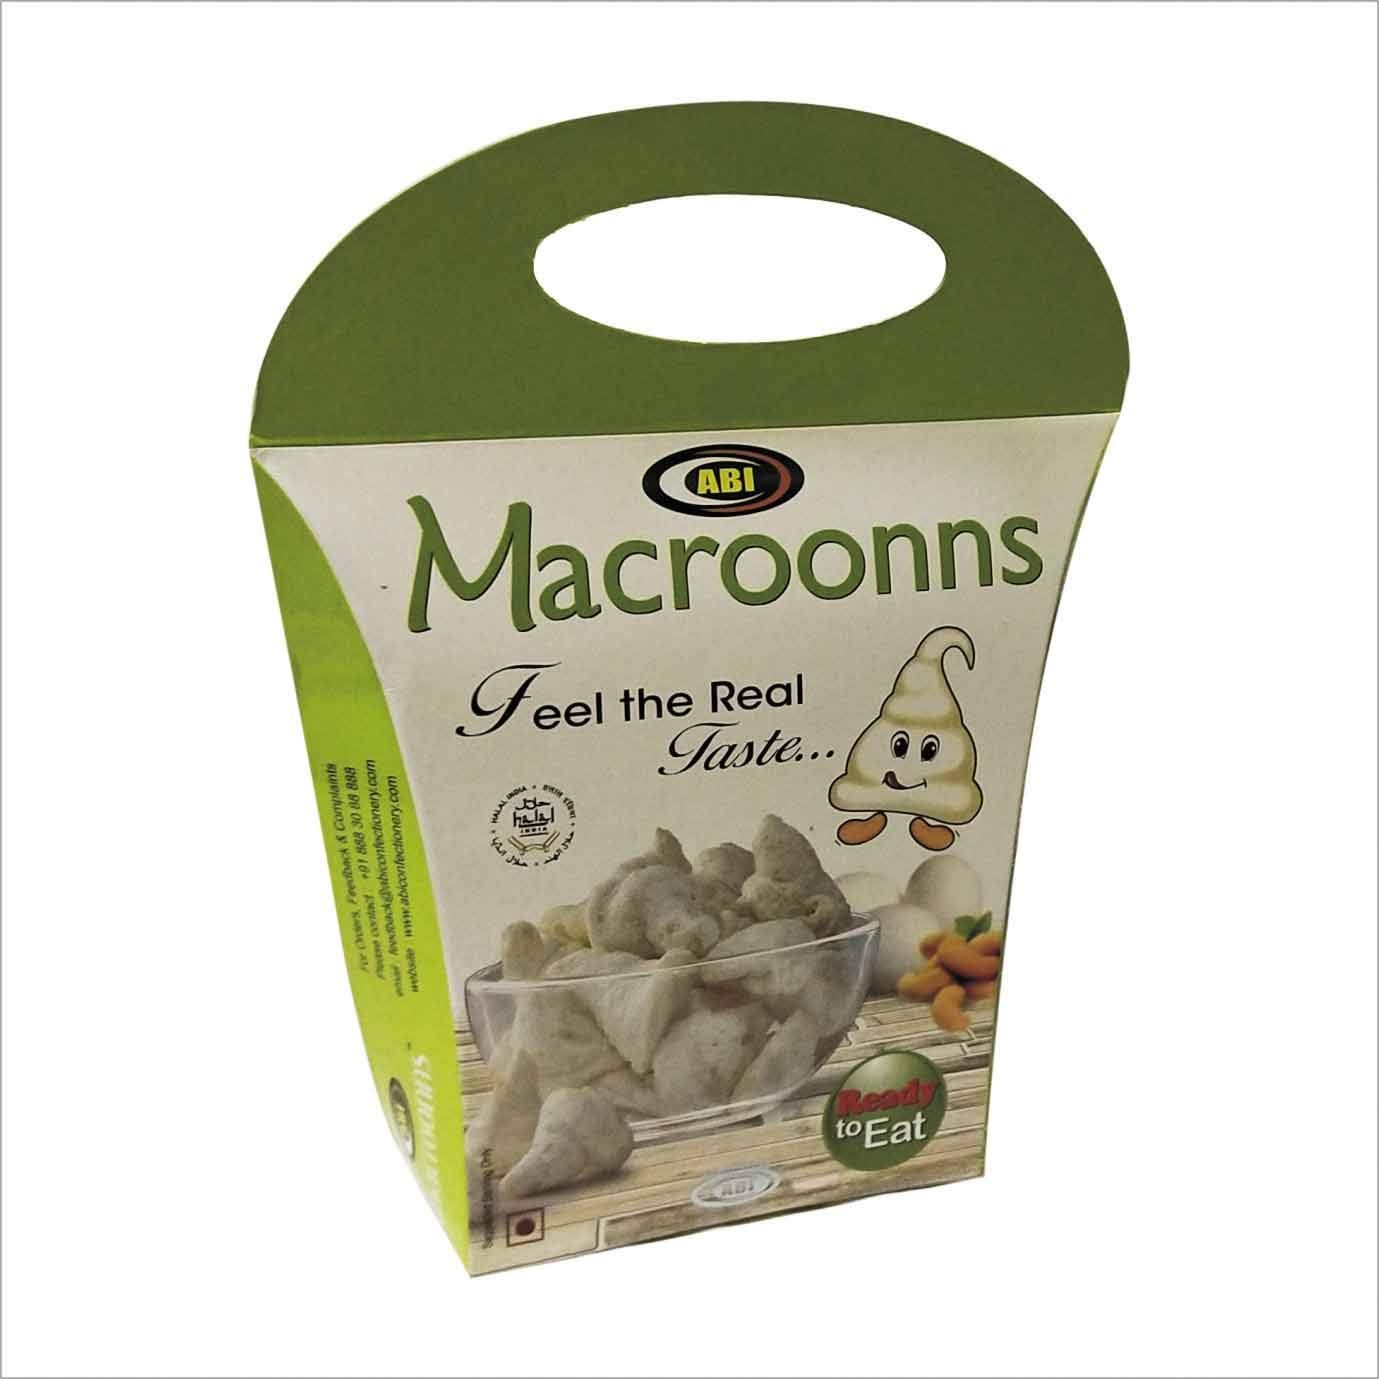nonveg_red: (504, 1205, 546, 1251)
